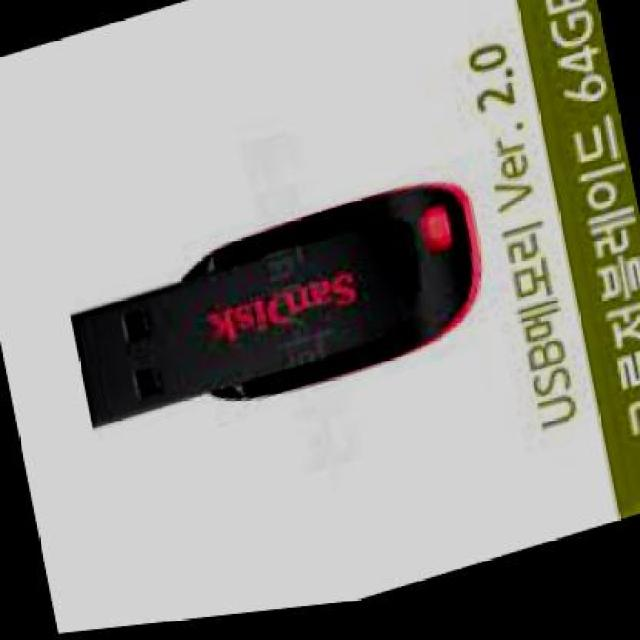Flashdisk: (58, 171, 497, 460)
